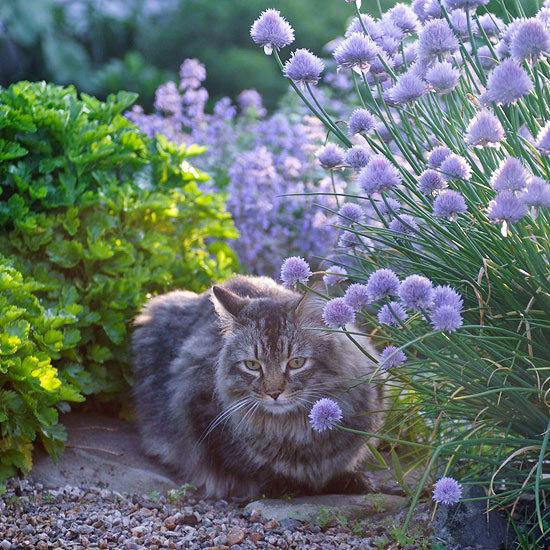cat: (131, 272, 385, 495)
